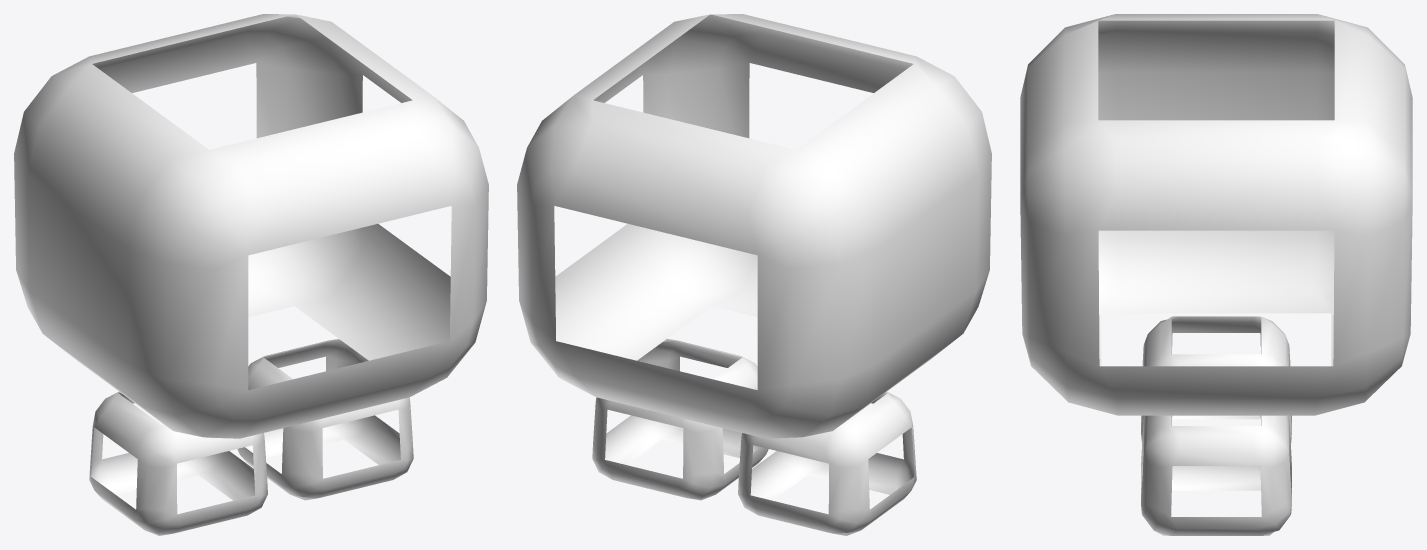
File: Player_edge.fbx
The picture shows the model from 3 angles, left to right: view 1: azimuth 30°, elevation 25°; view 2: azimuth 150°, elevation 25°; view 3: azimuth 270°, elevation 25°; orthographic projection.
Visible parts, largest first — view 1: Player001; view 2: Player001; view 3: Player001.
Boxes of the visible parts, <box> form: Player001: <box>14,14,488,535</box>; Player001: <box>517,14,991,535</box>; Player001: <box>1020,14,1412,535</box>.
Size of the model in its own units: 87.81 by 98.89 by 86.35.
